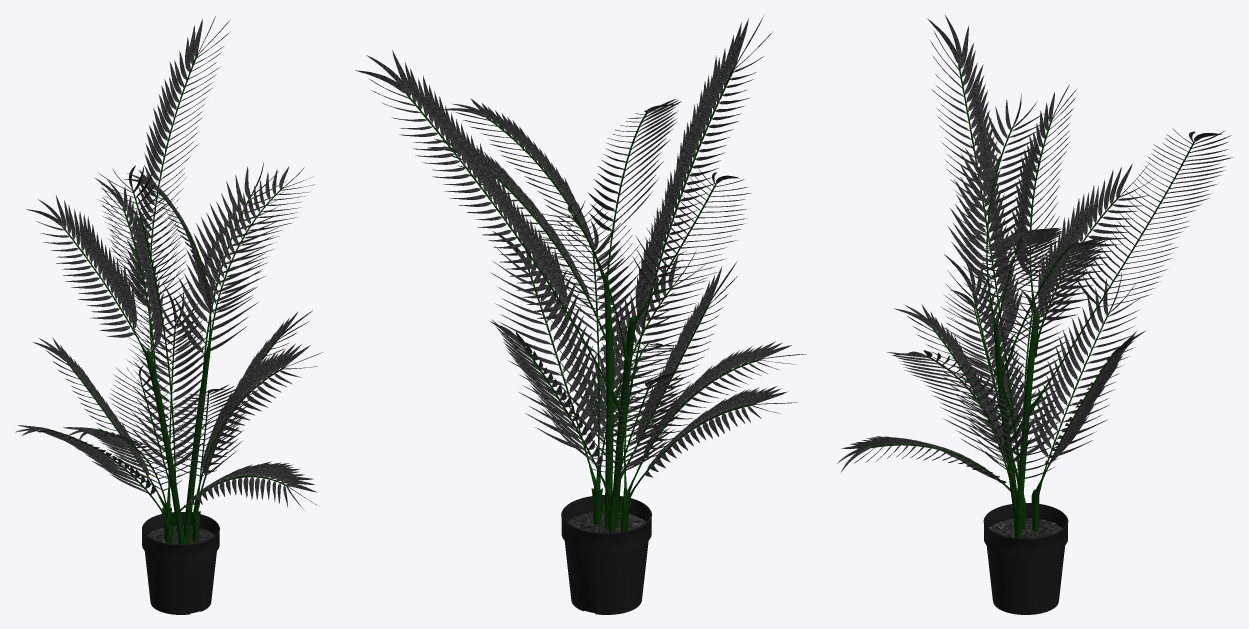
Rendered from FEJKA umjetna lončanica - u zatvorenomna otvorenom areka palma.fbx.
3 views of the same model, side by side, from view 1: azimuth 30°, elevation 25°; view 2: azimuth 150°, elevation 25°; view 3: azimuth 270°, elevation 25° (orthographic). The views are drawn at different scales.
Visible parts, largest first — view 1: Line576, Line200, Cylinder001, a; view 2: Line576, Line200, Cylinder001, a; view 3: Line576, Line200, Cylinder001, a.
Part boxes in pixels (box(x1,y1,x2,y2)): Line576: box(15, 16, 322, 509); Line200: box(49, 54, 288, 544); Cylinder001: box(142, 512, 219, 614); a: box(147, 525, 214, 544); Line576: box(355, 15, 806, 477); Line200: box(406, 67, 760, 532); Cylinder001: box(561, 495, 651, 614); a: box(567, 511, 645, 547); Line576: box(837, 15, 1232, 483); Line200: box(871, 65, 1194, 537); Cylinder001: box(983, 503, 1068, 614); a: box(989, 518, 1062, 537).
Size of the model in its own units: 81.33 by 129 by 86.74.
Materials: 4 (2 with a texture image).
